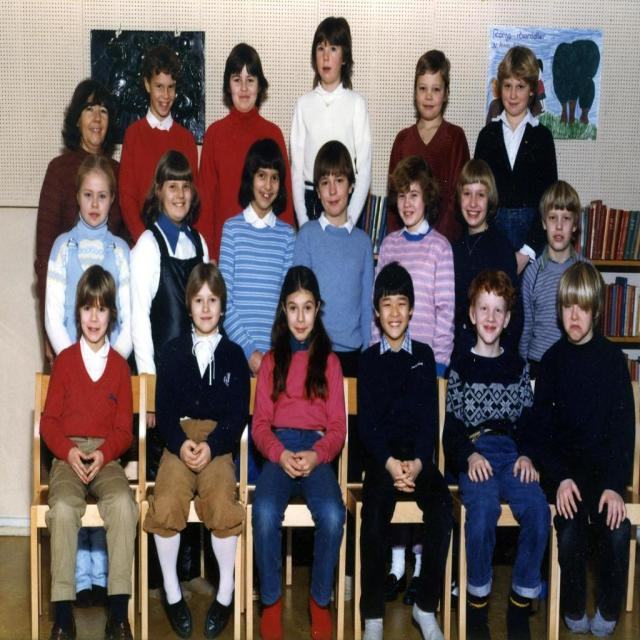Person: (34, 16, 636, 640)
